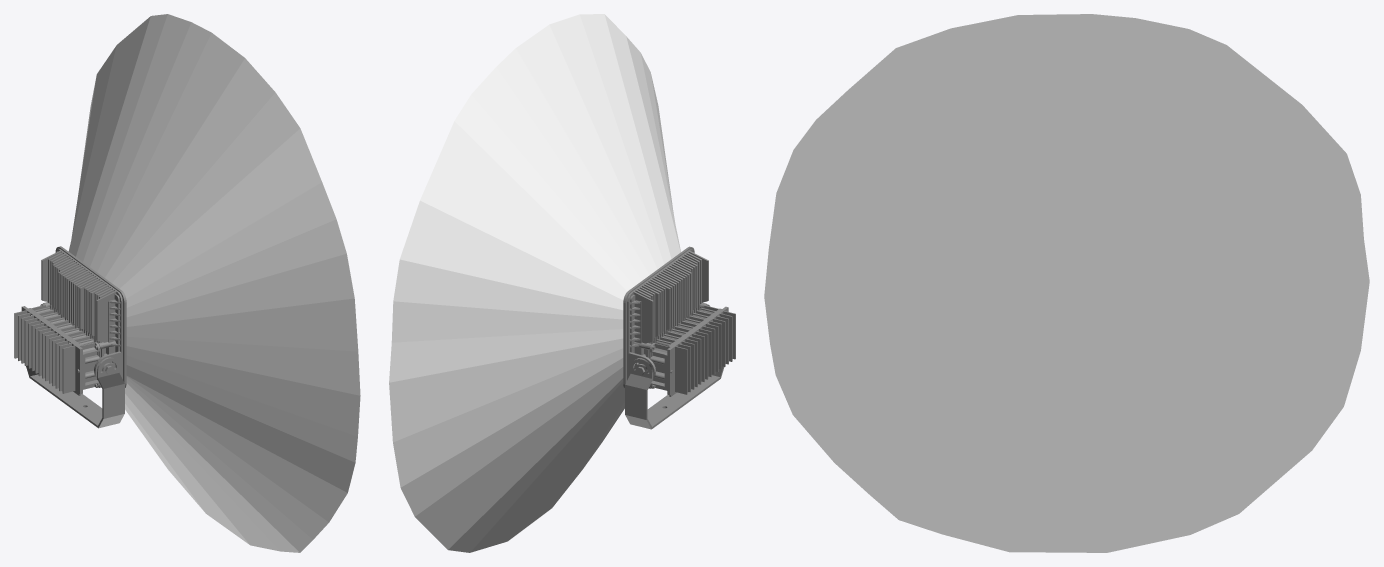
File: PFMA.obj
3 views of the same model, side by side, from view 1: azimuth 30°, elevation 25°; view 2: azimuth 150°, elevation 25°; view 3: azimuth 270°, elevation 25° (orthographic). The views are drawn at different scales.
Parts seen in each view (by area): view 1: Cylinder, PFM15LCY_UNV1D76; view 2: Cylinder, PFM15LCY_UNV1D76; view 3: Cylinder.
Boxes of the visible parts, left/top/right/bottom form: Cylinder: left=68, top=14, right=360, bottom=552; PFM15LCY_UNV1D76: left=14, top=246, right=126, bottom=428; Cylinder: left=389, top=14, right=680, bottom=552; PFM15LCY_UNV1D76: left=623, top=246, right=735, bottom=429; Cylinder: left=764, top=14, right=1369, bottom=552.
Bounding box in the file's own units: 23.85 × 59.9 × 61.06.
2 materials, 2 textured.
